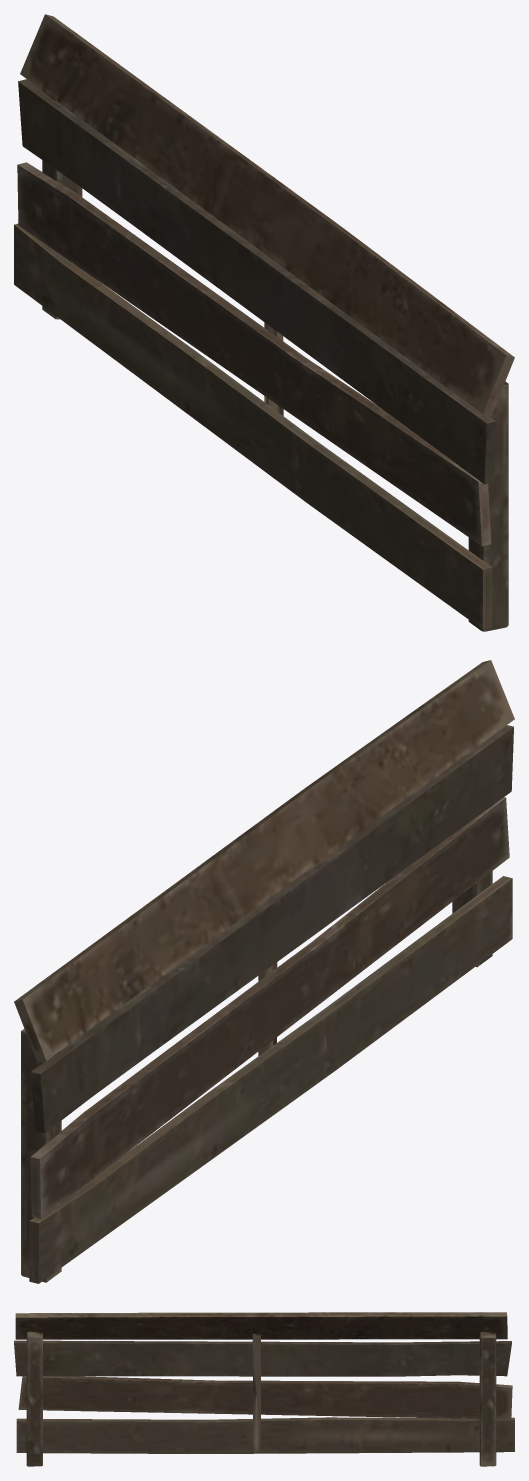
The model's file is foundation.frontier.wall_variant_b.glb.
3 views of the same model, one above another, from view 1: azimuth 30°, elevation 25°; view 2: azimuth 150°, elevation 25°; view 3: azimuth 270°, elevation 25° (orthographic). The views are drawn at different scales.
Visible parts, largest first — view 1: model; view 2: model; view 3: model.
Boxes of the visible parts, x1=… form: model: x1=14, y1=14, x2=514, y2=631; model: x1=14, y1=660, x2=514, y2=1283; model: x1=14, y1=1312, x2=514, y2=1466.
Bounding box in the file's own units: 0.1433 × 1.02 × 3.05.
1 material, 1 textured.
